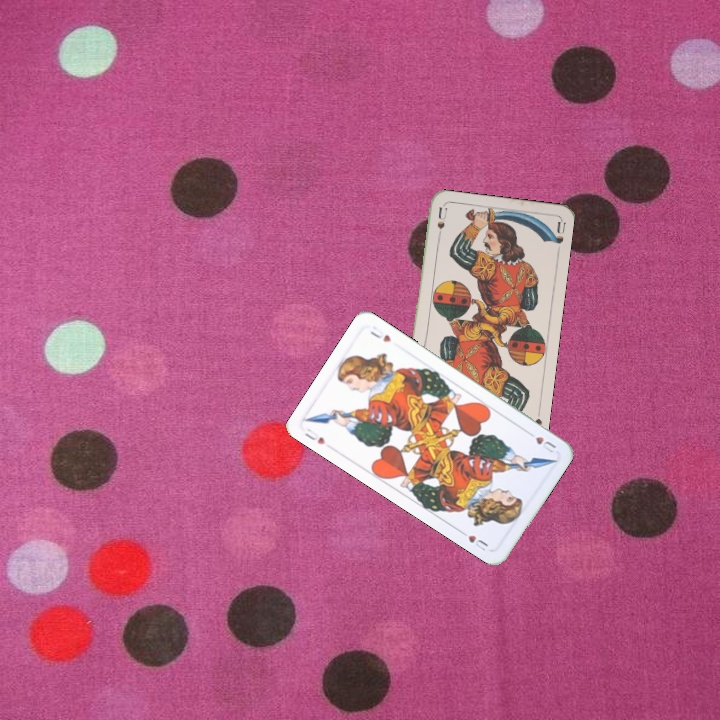HU: (523, 427, 559, 456), (300, 424, 328, 447)
SU: (433, 204, 449, 245)
